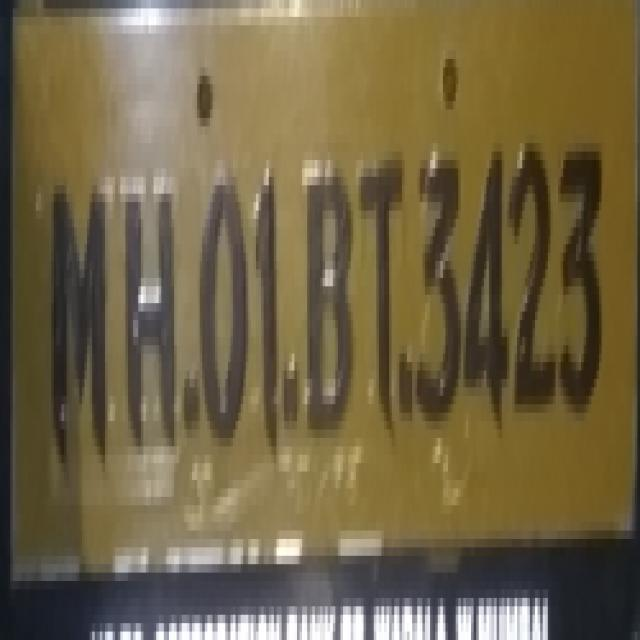0: (194, 137, 254, 460)
1: (247, 164, 291, 460)
3: (557, 137, 611, 428), (414, 126, 464, 436)
4: (460, 150, 512, 435)
B: (300, 156, 360, 457)
H: (118, 160, 182, 460)
M: (44, 164, 114, 478)
T: (354, 128, 406, 452)
